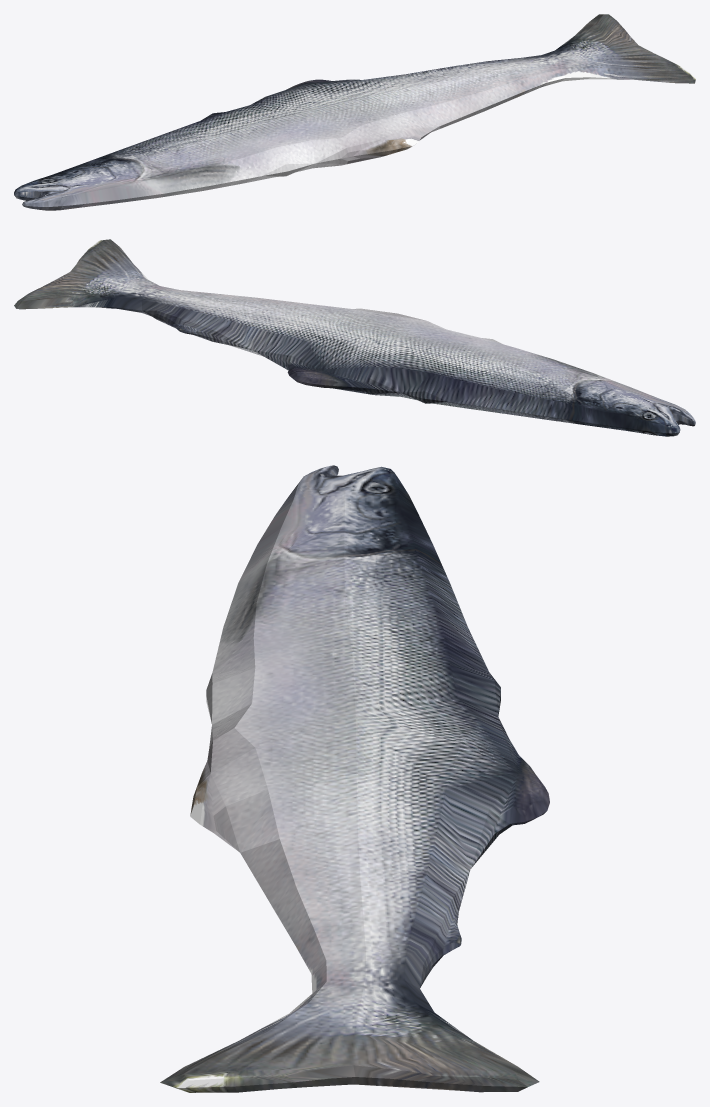
Rendered from fishdetailed2.fbx.
3 views of the same model, one above another, from view 1: azimuth 30°, elevation 25°; view 2: azimuth 150°, elevation 25°; view 3: azimuth 270°, elevation 25° (orthographic). The views are drawn at different scales.
Parts seen in each view (by area): view 1: Cube; view 2: Cube; view 3: Cube.
Part boxes in pixels (<box>): Cube: <box>14,14,695,210</box>; Cube: <box>14,239,695,436</box>; Cube: <box>160,465,549,1092</box>.
Bounding box in the file's own units: 137 × 7.86 × 36.52.
